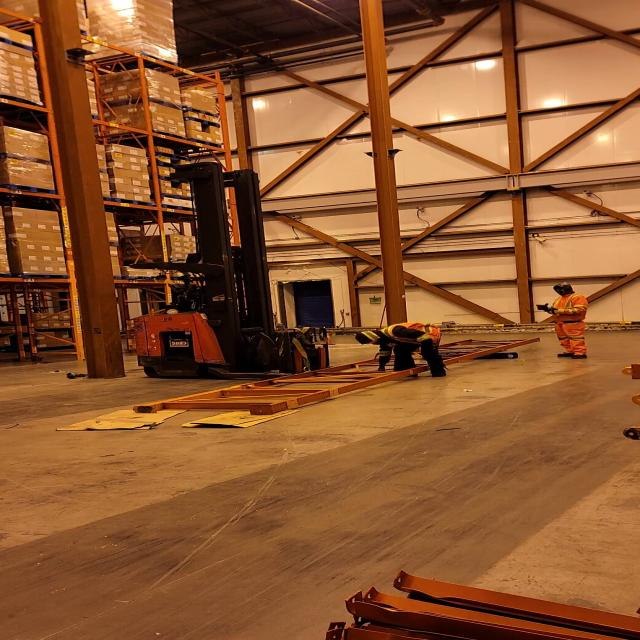forklift: (134, 168, 336, 380)
human: (141, 280, 264, 344), (357, 321, 452, 383), (540, 280, 592, 361)
objectofinterest: (128, 332, 547, 415), (50, 402, 192, 434), (177, 403, 308, 431), (465, 350, 520, 360)
